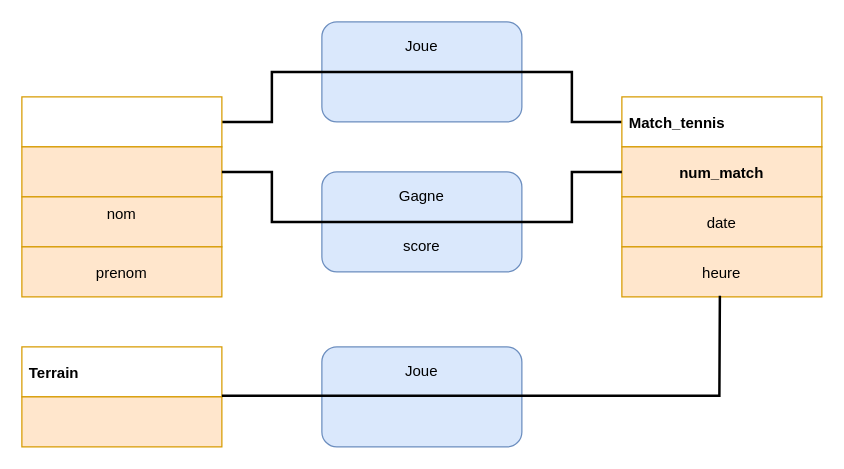
This 844x469 diagram has some shape labels left out. The shapes that lost their labels are listed below. From the top down, each one's box as (x1, y1, x2, y2) in pixels, then its label:
(21, 96, 222, 147): Joueur
(21, 146, 222, 197): num_licence
(21, 396, 222, 447): code_terrain
